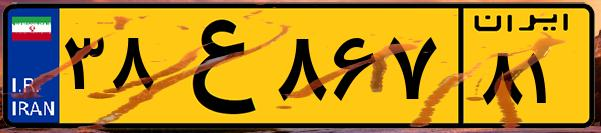1: (525, 38, 570, 115)
3: (57, 26, 110, 100)
6: (330, 28, 385, 110)
7: (385, 28, 445, 110)
8: (270, 28, 330, 110), (475, 38, 525, 113), (110, 28, 158, 98)
ع: (158, 12, 270, 120)
